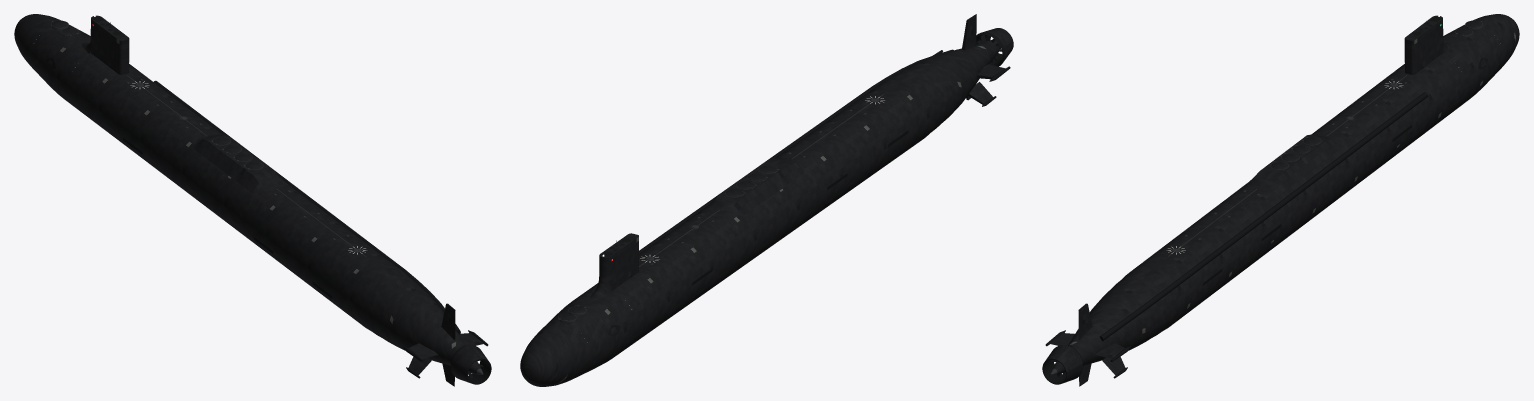
Rendered from ssn.glb.
3 views of the same model, side by side, from view 1: azimuth 30°, elevation 25°; view 2: azimuth 150°, elevation 25°; view 3: azimuth 330°, elevation 25° (orthographic). The views are drawn at different scales.
Visible parts, largest first — view 1: ssn_static; view 2: ssn_static; view 3: ssn_static.
Boxes of the visible parts, x1=… form: ssn_static: x1=14, y1=14, x2=491, y2=386; ssn_static: x1=520, y1=14, x2=1013, y2=386; ssn_static: x1=1042, y1=14, x2=1519, y2=386.
Bounding box in the file's own units: 12.18 × 19.22 × 140.
11 materials, 1 textured.
